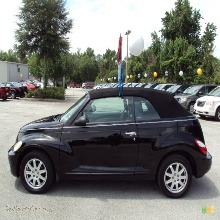no damage: (9, 88, 213, 200)
